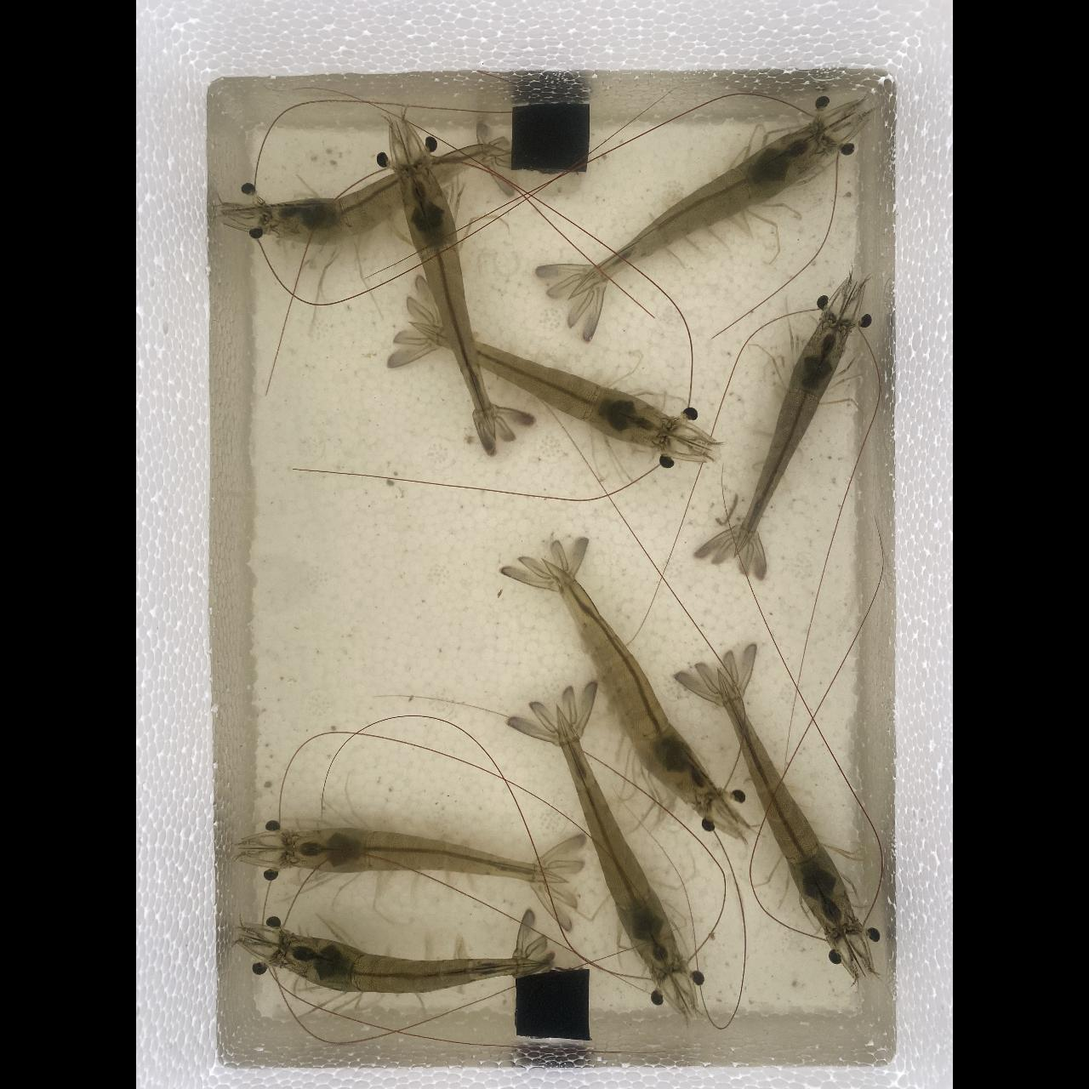box: (510, 100, 590, 172), (516, 972, 590, 1040)
top_shrimp: (565, 124, 829, 296), (548, 558, 713, 801), (716, 676, 854, 936), (556, 710, 679, 973), (735, 320, 847, 551), (264, 144, 512, 241), (402, 168, 493, 425), (478, 347, 670, 444), (274, 938, 539, 992), (282, 829, 562, 878)
